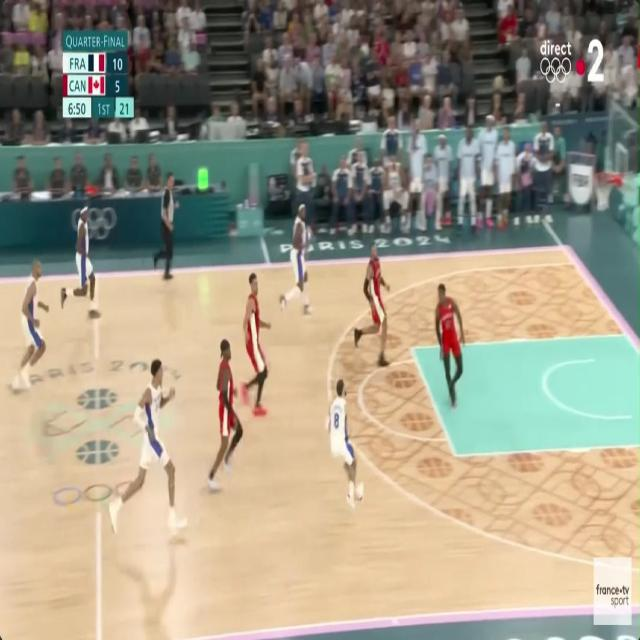ball_handler: (324, 380, 364, 512)
